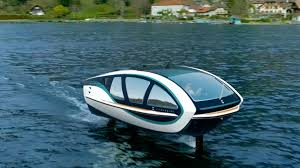boat: (82, 63, 245, 136)
